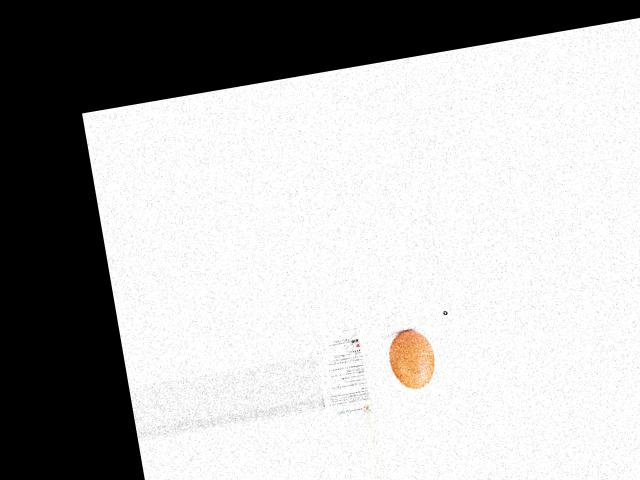egg: (385, 327, 438, 391)
